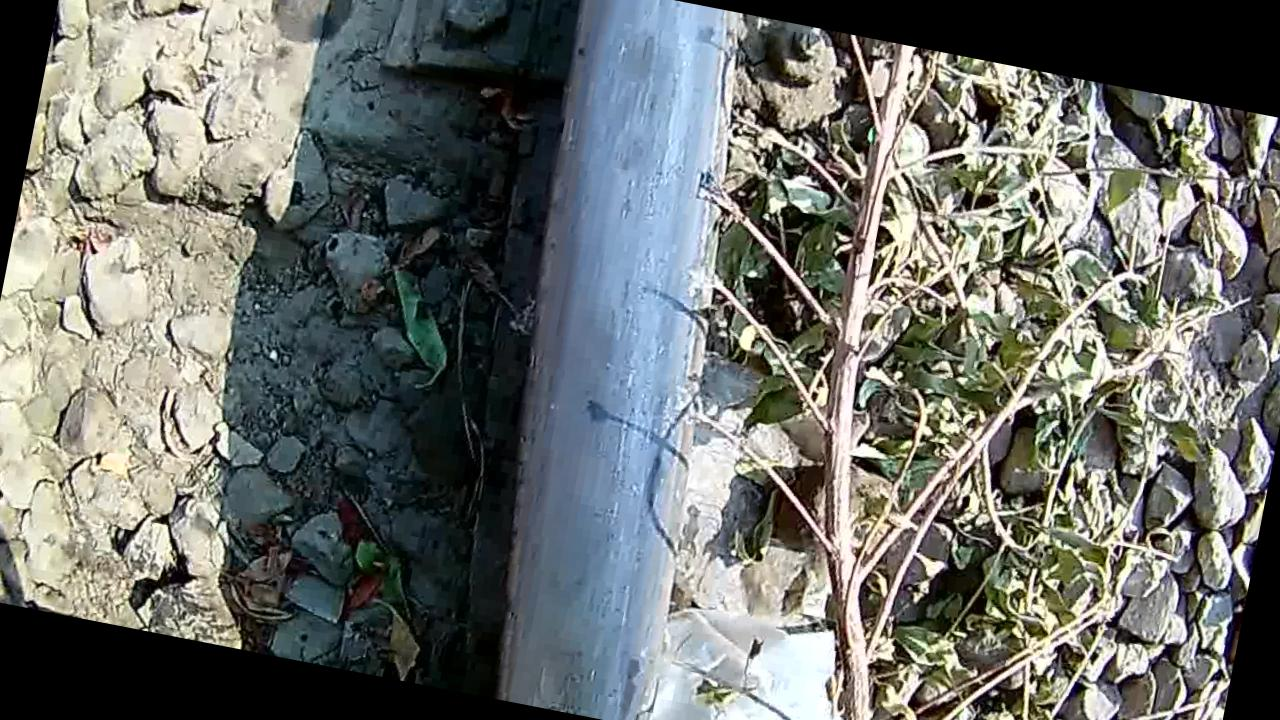bolt_missing: (467, 0, 736, 718)
